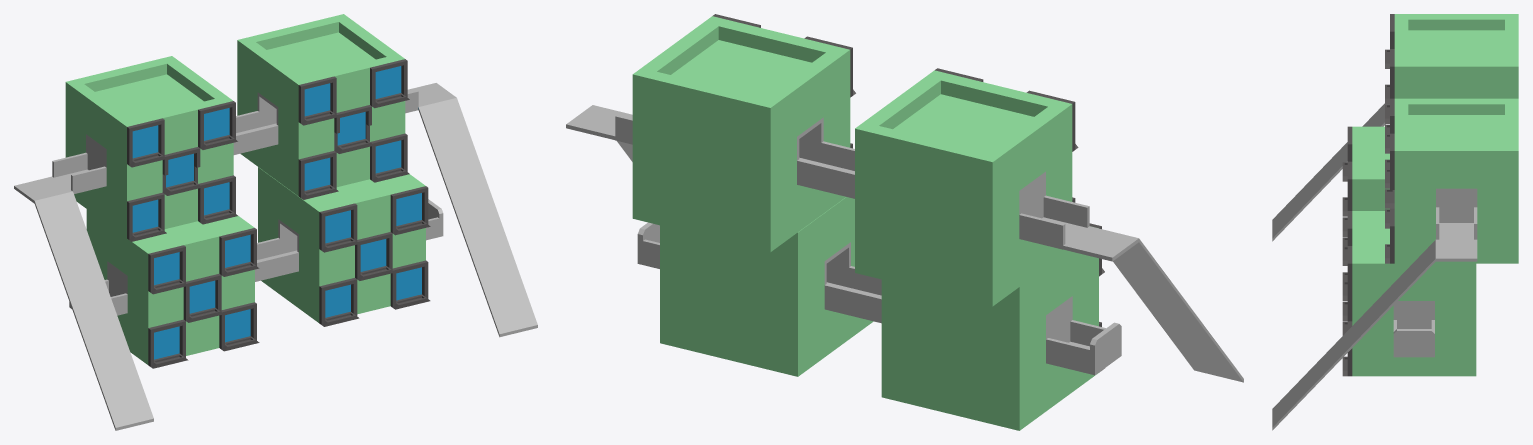
The model's file is Rubix cube Green.fbx.
The picture shows the model from 3 angles, left to right: view 1: azimuth 30°, elevation 25°; view 2: azimuth 150°, elevation 25°; view 3: azimuth 270°, elevation 25°; orthographic projection. The views are drawn at different scales.
Visible parts, largest first — view 1: Cube.001; view 2: Cube.001; view 3: Cube.001.
Part boxes in pixels (x1=…): Cube.001: x1=14, y1=14, x2=537, y2=430; Cube.001: x1=566, y1=14, x2=1243, y2=430; Cube.001: x1=1272, y1=14, x2=1518, y2=430.
Bounding box in the file's own units: 29355 × 16083 × 14701.
